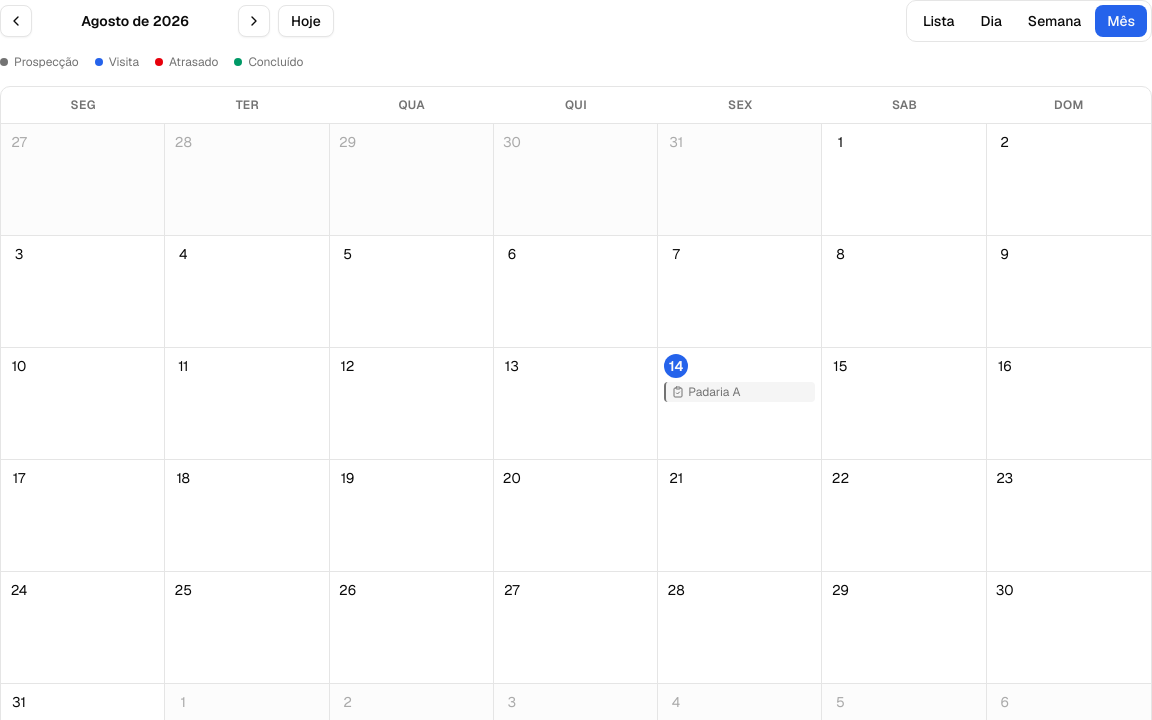
Test case: AgendaCalendario › clicar num dia da grade de mês abre o diálogo com o título e a lista daquele dia
The image size is (1152, 720).
Click the button "14 Padaria A".
click(740, 404)  # box [658, 348, 822, 460]
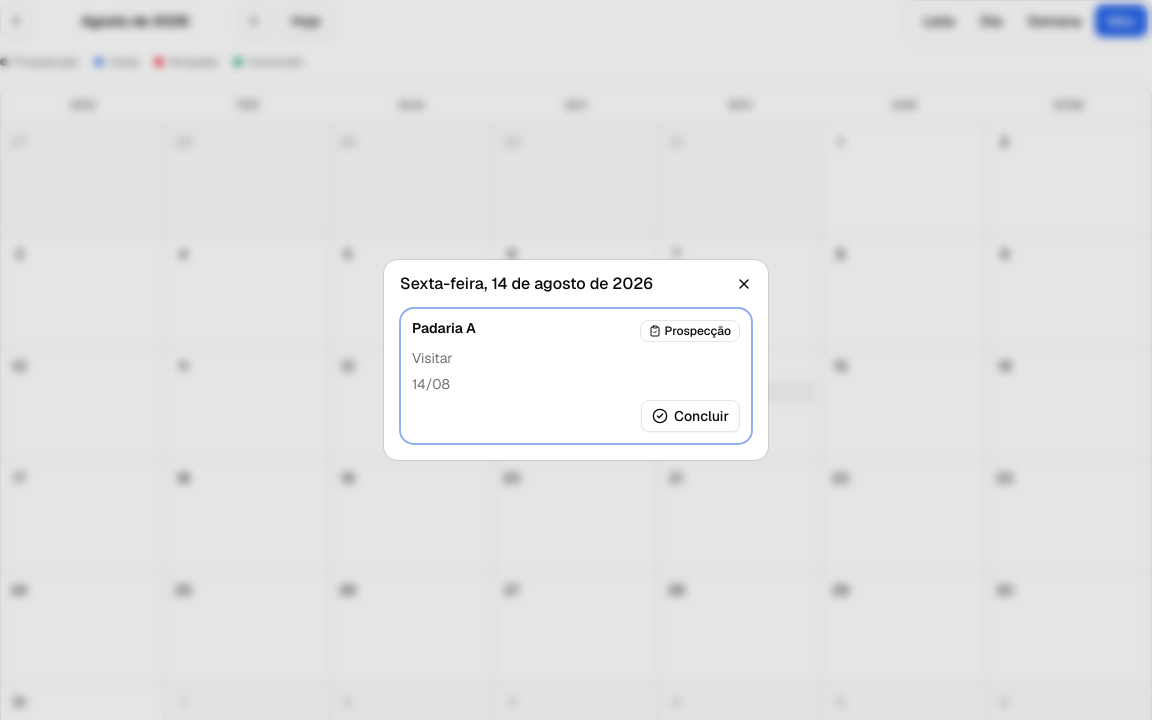
Expected: the heading "Sexta-feira, 14 de agosto de 2026" is shown, [400, 273, 653, 294]
Expected: the text "Padaria A" is shown, [412, 319, 476, 337]
